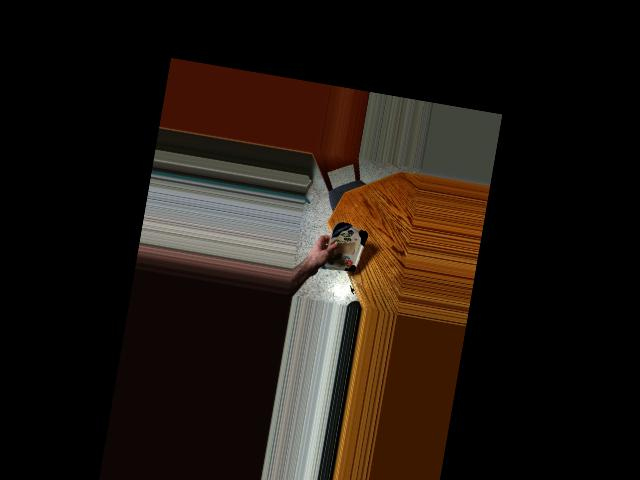cheese: (321, 218, 368, 285)
